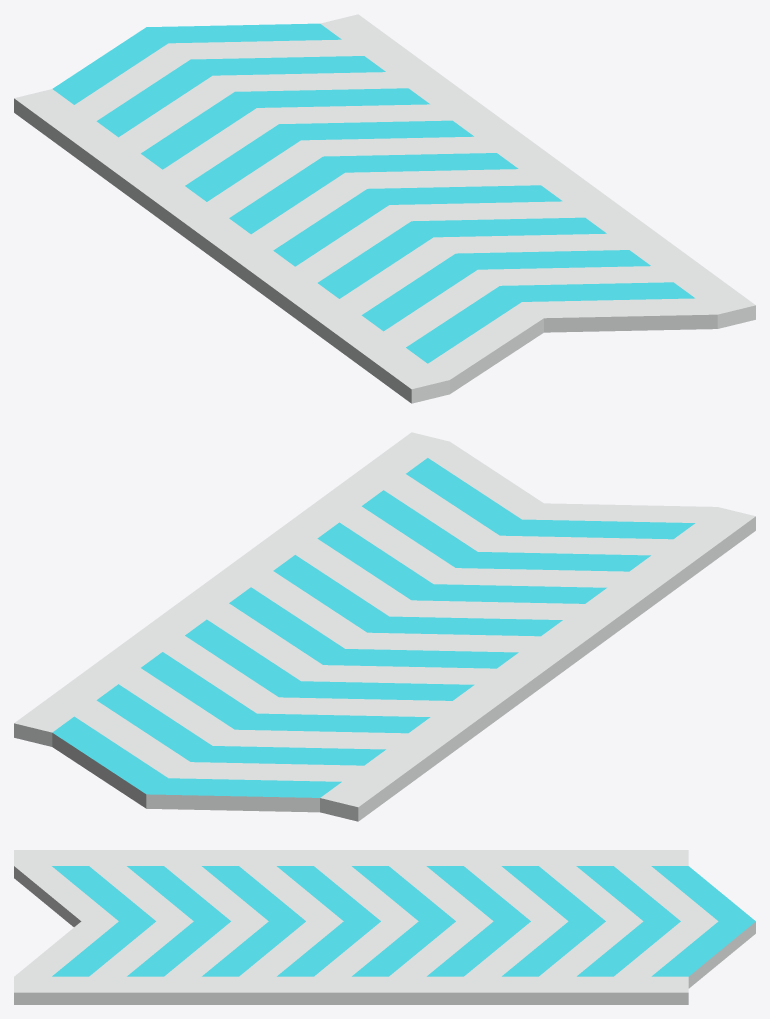
The model's file is Platform.fbx.
The picture shows the model from 3 angles, top to bottom: view 1: azimuth 30°, elevation 25°; view 2: azimuth 150°, elevation 25°; view 3: azimuth 270°, elevation 25°; orthographic projection. The views are drawn at different scales.
Parts seen in each view (by area): view 1: Cube; view 2: Cube; view 3: Cube.
Boxes of the visible parts, bbox=[...] form: Cube: bbox=[14, 14, 755, 403]; Cube: bbox=[14, 432, 755, 821]; Cube: bbox=[14, 850, 755, 1004].
Size of the model in its own units: 500 by 20 by 1100.
